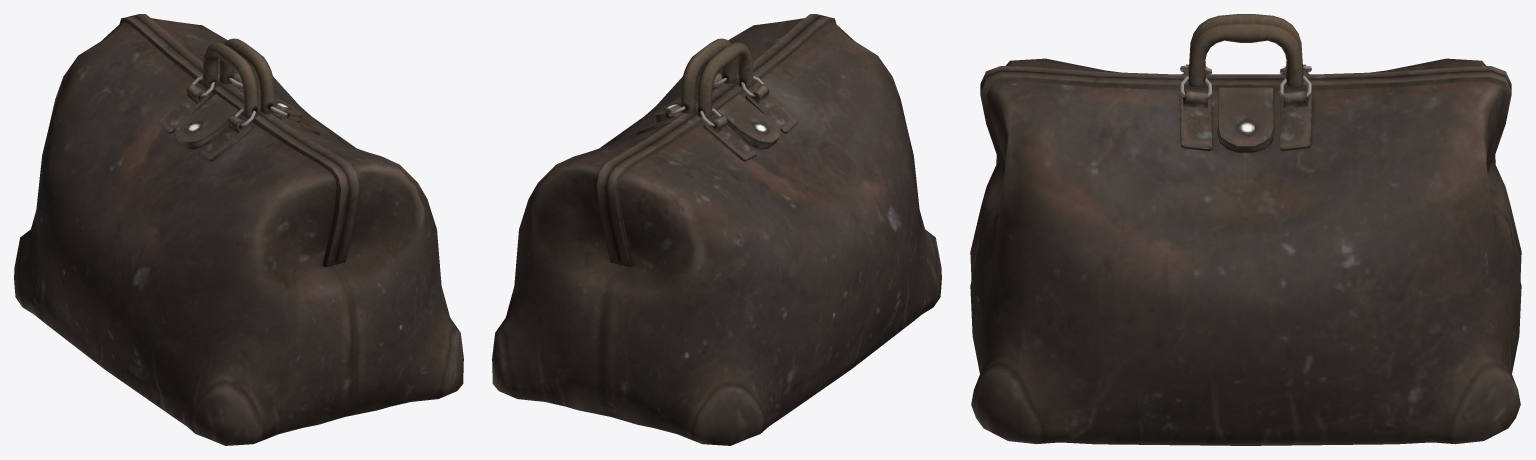
The model's file is SM_Bag1.fbx.
The picture shows the model from 3 angles, left to right: view 1: azimuth 30°, elevation 25°; view 2: azimuth 150°, elevation 25°; view 3: azimuth 270°, elevation 25°; orthographic projection. The views are drawn at different scales.
Parts seen in each view (by area): view 1: SM_Bag1_LOD0; view 2: SM_Bag1_LOD0; view 3: SM_Bag1_LOD0.
Boxes of the visible parts, left/top/right/bottom form: SM_Bag1_LOD0: left=14, top=14, right=463, bottom=445; SM_Bag1_LOD0: left=492, top=14, right=941, bottom=445; SM_Bag1_LOD0: left=970, top=14, right=1521, bottom=445.
Bounding box in the file's own units: 44.2 × 59.57 × 42.33.
